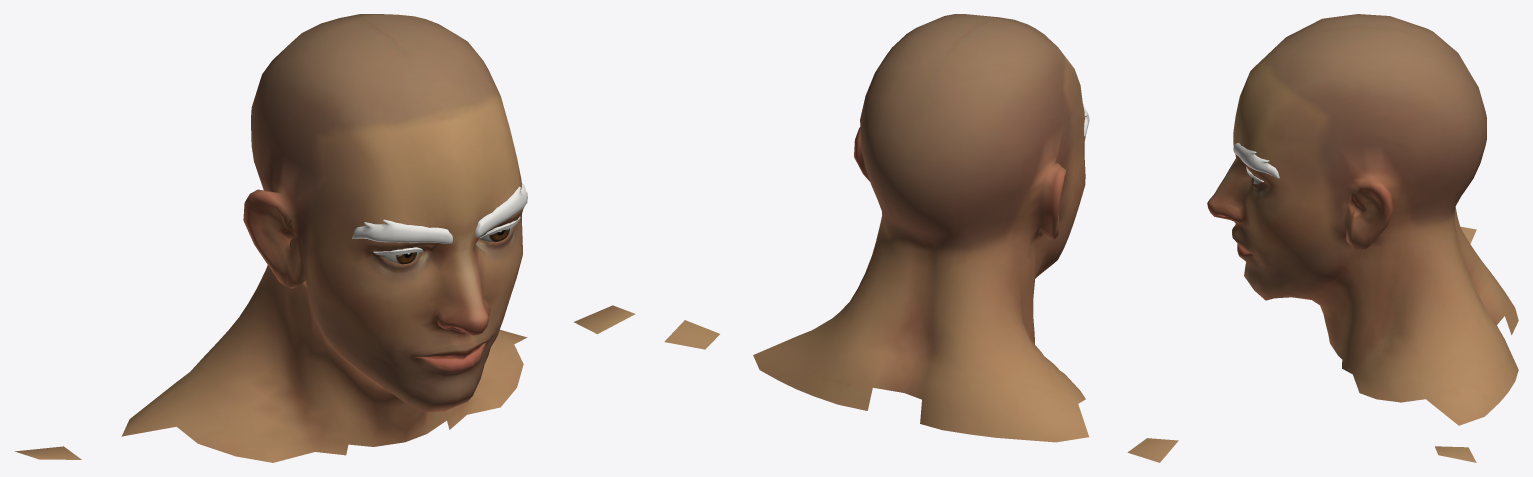
The model's file is harlan_head.glb.
The picture shows the model from 3 angles, left to right: view 1: azimuth 30°, elevation 25°; view 2: azimuth 150°, elevation 25°; view 3: azimuth 270°, elevation 25°; orthographic projection. The views are drawn at different scales.
Visible parts, largest first — view 1: head, brows; view 2: head; view 3: head, brows.
Boxes of the visible parts, x1=… form: head: x1=14, y1=14, x2=635, y2=462; brows: x1=352, y1=183, x2=527, y2=255; head: x1=664, y1=14, x2=1178, y2=462; head: x1=1207, y1=14, x2=1518, y2=462; brows: x1=1233, y1=143, x2=1279, y2=182.
Bounding box in the file's own units: 0.4367 × 0.2799 × 0.2463.
Materials: 3 (2 with a texture image).
